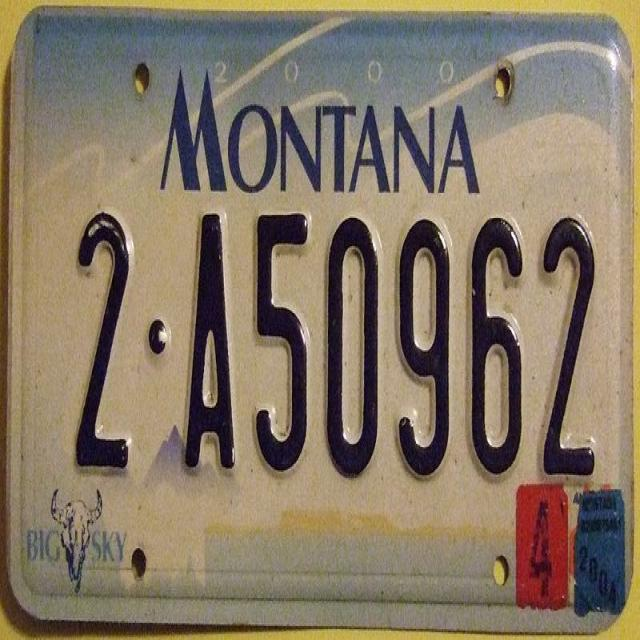placa: (179, 196, 628, 490)
